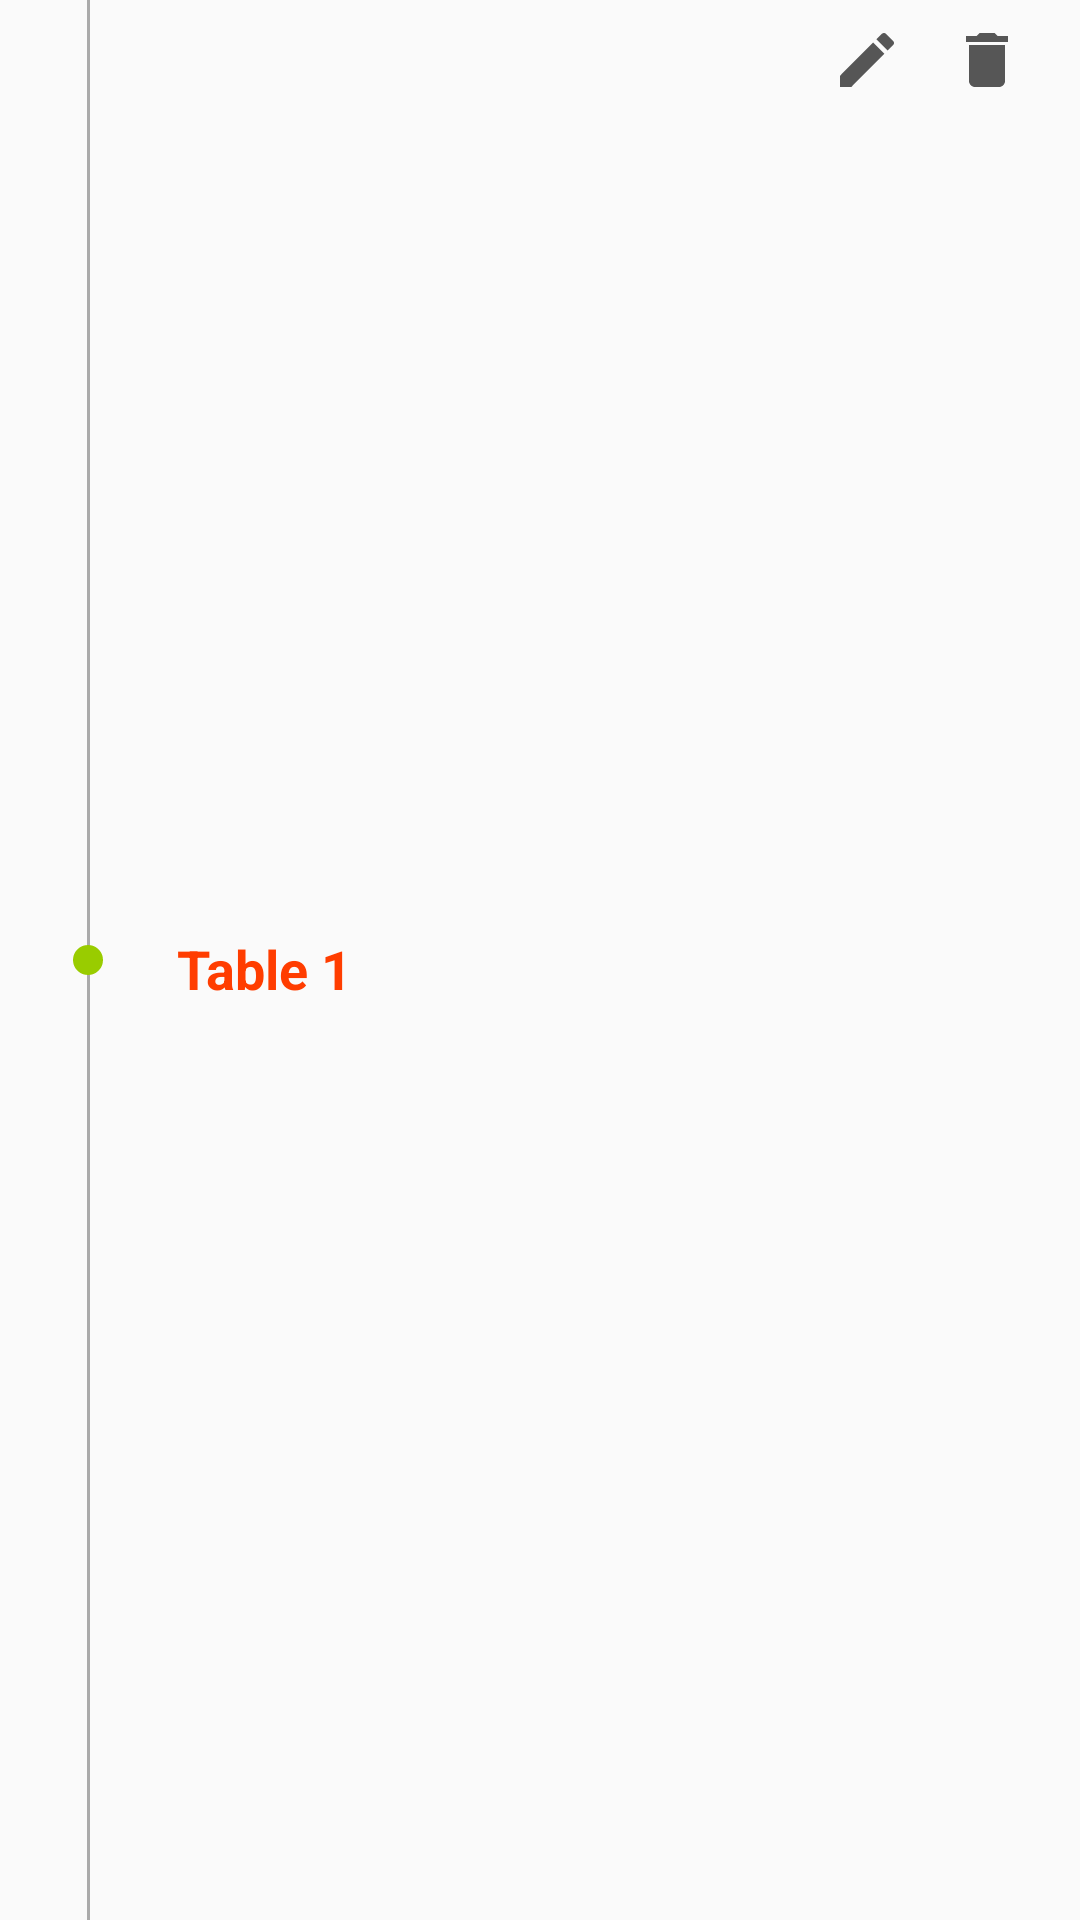

Named icons in this screenshot (1080x1920) and their bounding boxes, (x1=x1, y1=y1, x2=x2, y2=y2):
delete: (x1=966, y1=33, x2=1008, y2=87)
mode edit: (x1=840, y1=33, x2=894, y2=87)
